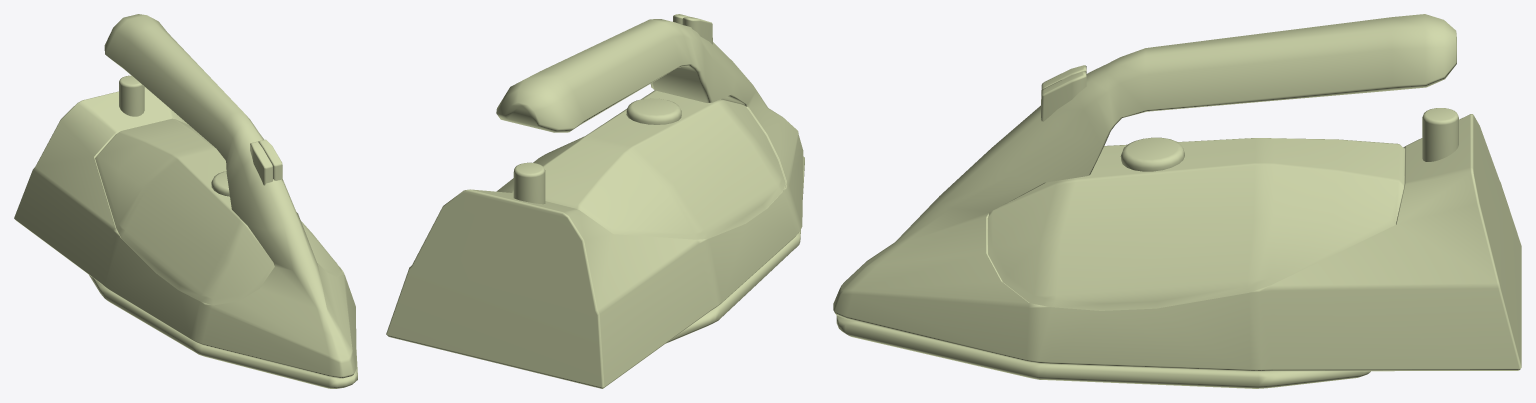
The model's file is Iron.FBX.
3 views of the same model, side by side, from view 1: azimuth 30°, elevation 25°; view 2: azimuth 150°, elevation 25°; view 3: azimuth 270°, elevation 25° (orthographic). The views are drawn at different scales.
Visible parts, largest first — view 1: pCube5; view 2: pCube5; view 3: pCube5.
Part boxes in pixels (x1,y1,x2,y2): pCube5: (14, 14, 357, 388); pCube5: (386, 14, 804, 388); pCube5: (833, 14, 1521, 388).
Bounding box in the file's own units: 0.1402 × 0.1594 × 0.3232.
